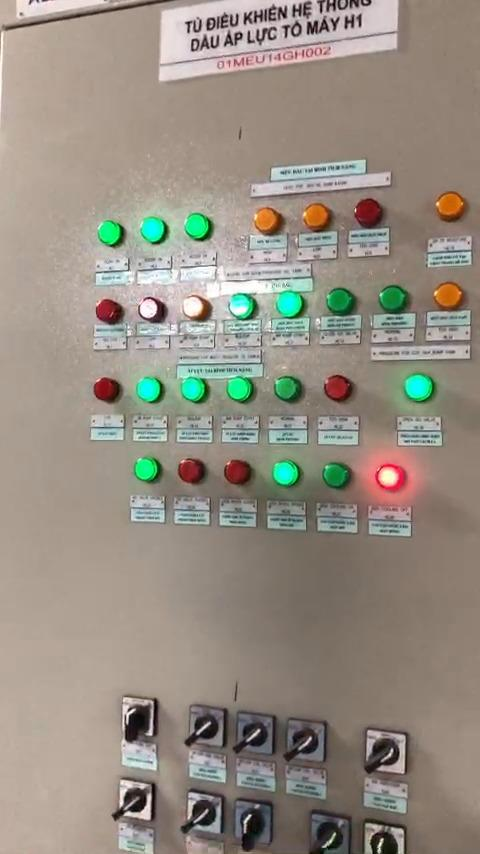led: (433, 190, 469, 225), (350, 198, 388, 231), (432, 280, 468, 314), (319, 458, 354, 492), (403, 372, 436, 405), (374, 465, 408, 496), (184, 211, 215, 244), (325, 285, 356, 318), (324, 372, 355, 405), (222, 459, 255, 490), (272, 371, 303, 403), (225, 292, 258, 322), (225, 373, 256, 404), (302, 204, 335, 233), (273, 292, 306, 320), (95, 219, 124, 250), (378, 286, 409, 315), (135, 296, 165, 325), (175, 456, 206, 484), (140, 215, 169, 244), (180, 294, 208, 324), (132, 458, 159, 489), (92, 376, 120, 405), (97, 301, 127, 328), (273, 458, 300, 488), (253, 208, 281, 236), (180, 376, 208, 404), (138, 379, 163, 408)
twist: (367, 729, 411, 778), (120, 693, 160, 744), (188, 705, 225, 749), (115, 780, 154, 821), (234, 801, 269, 846), (289, 718, 326, 760), (309, 812, 345, 854), (237, 714, 273, 753), (363, 822, 406, 854), (188, 795, 220, 835)
